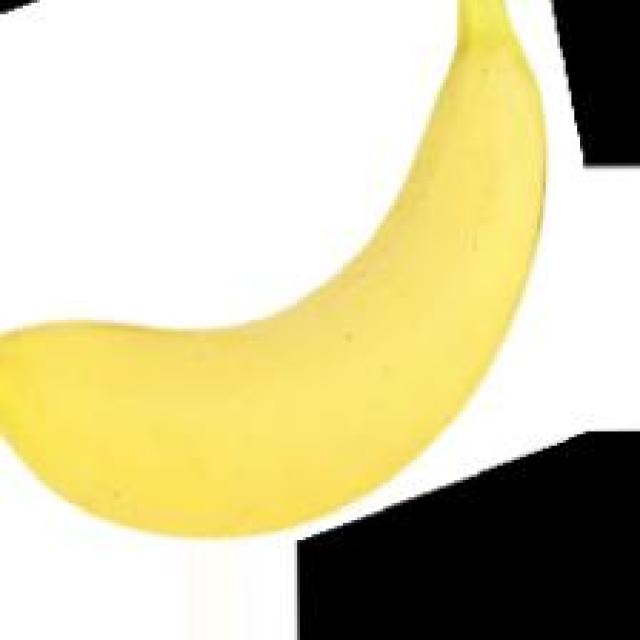banana: (7, 21, 564, 562)
